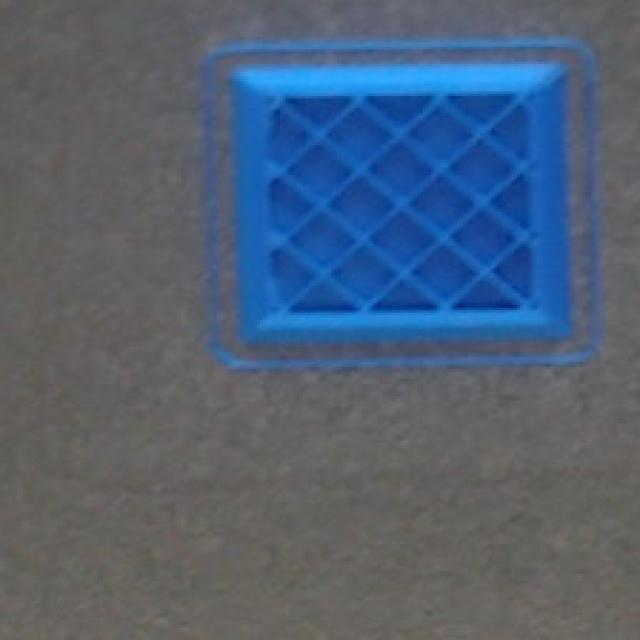noMistake: (209, 42, 597, 367)
